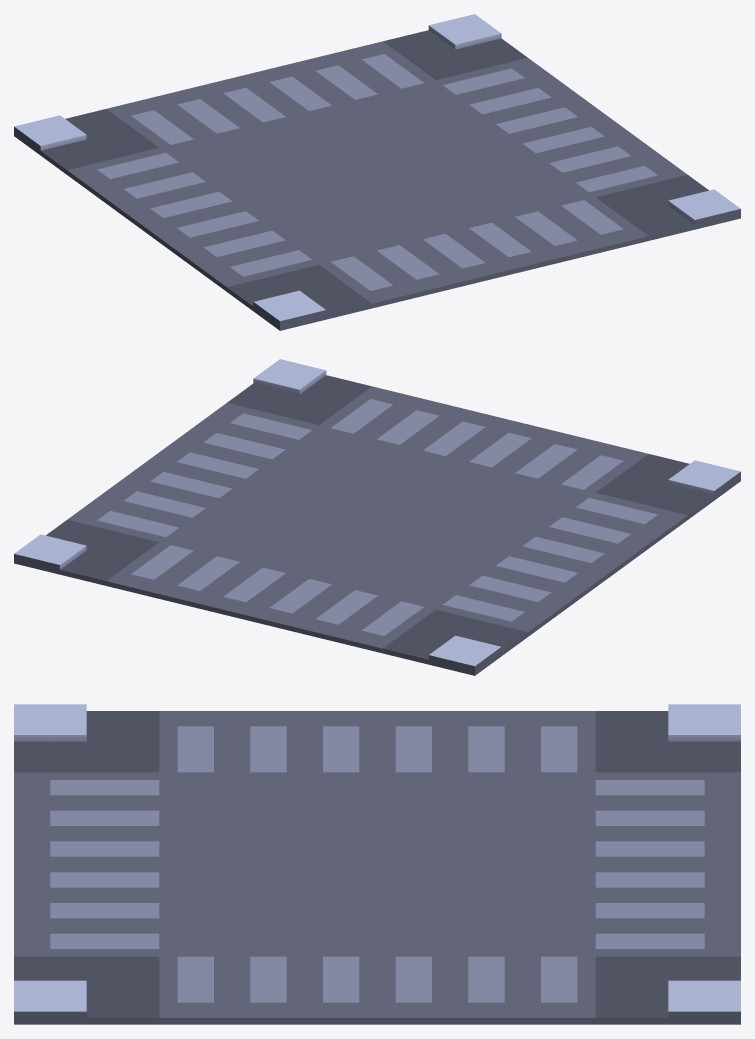
File: road-crossroad-path.fbx
3 renders of one model, top to bottom at view 1: azimuth 30°, elevation 25°; view 2: azimuth 150°, elevation 25°; view 3: azimuth 270°, elevation 25°, orthographic. The views are drawn at different scales.
Visible parts, largest first — view 1: road-crossroad-path; view 2: road-crossroad-path; view 3: road-crossroad-path.
Boxes of the visible parts, bbox=[...] form: road-crossroad-path: bbox=[14, 14, 740, 330]; road-crossroad-path: bbox=[14, 359, 740, 675]; road-crossroad-path: bbox=[14, 704, 740, 1024].
Size of the model in its own units: 100 by 2 by 100.
